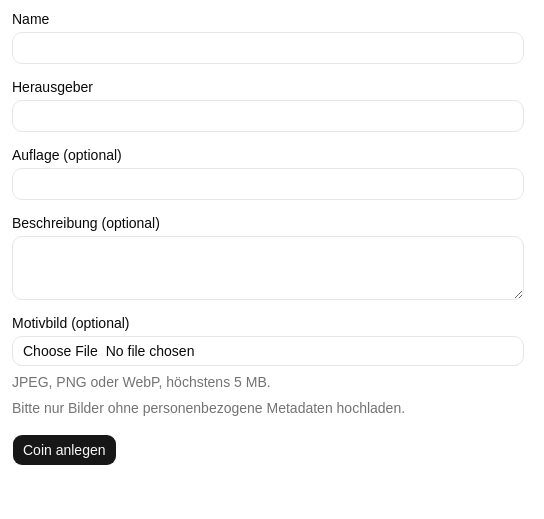
Test: AK-27: 403 beim Anlegen › zeigt „Sie sind nicht berechtigt, Coins zu erfassen.“ als Alarm
Type "Coin Alpha" into the field labelled "Name" at (268, 48), box [12,32,524,64]
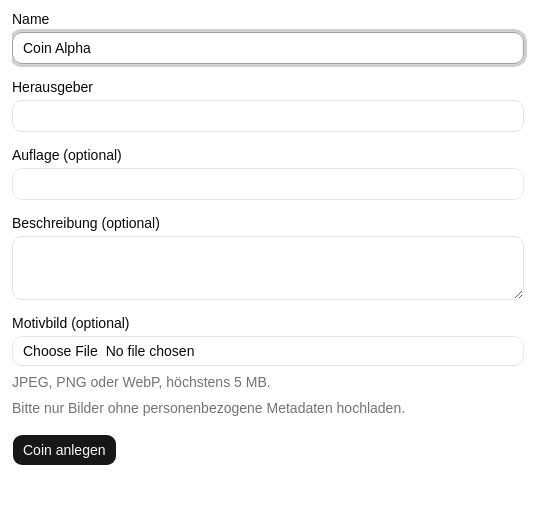
Type "Herausgeber Beta" into the field labelled "Herausgeber" at (268, 116), box [12,100,524,132]
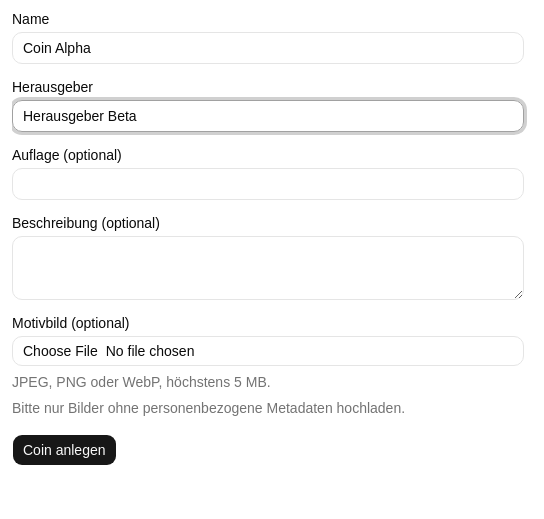
Click the button "Coin anlegen" at (64, 450), box [12,434,116,466]
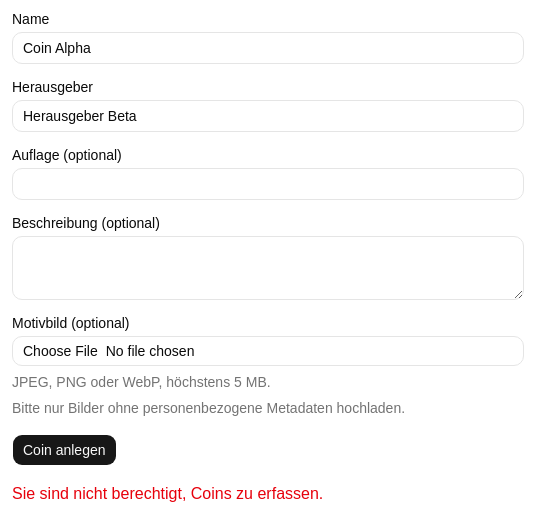
Expected: the message reads "Sie sind nicht berechtigt, Coins zu erfassen.", [12,485,323,502]
